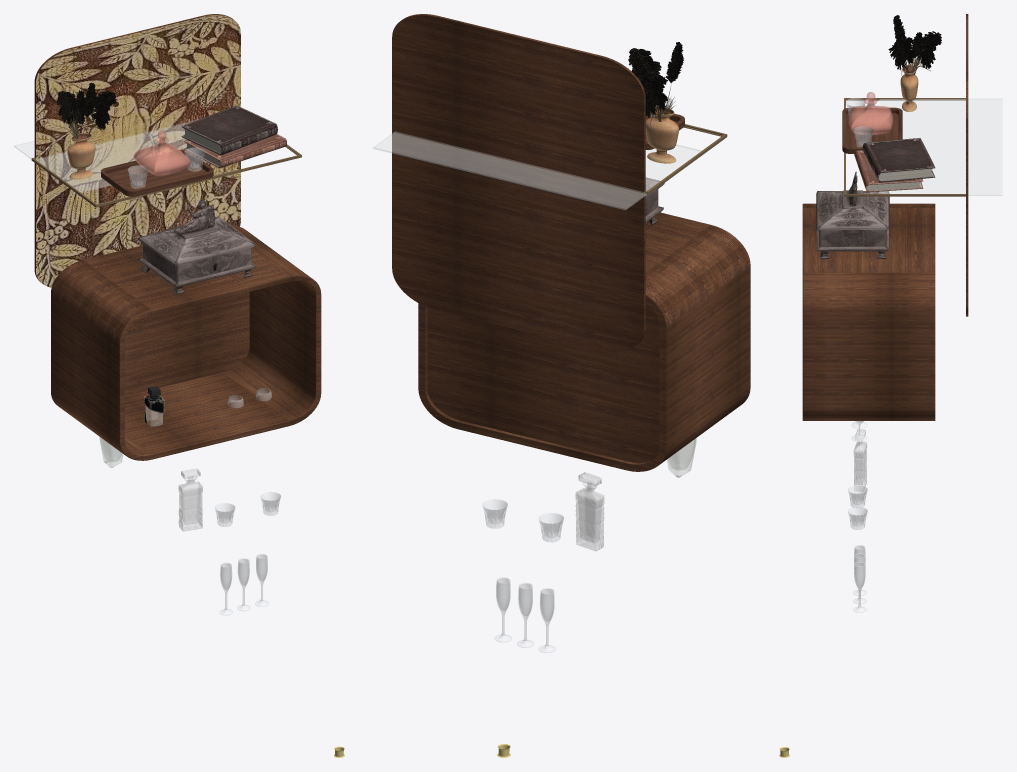
Rendered from shkaf-interior.glb.
The picture shows the model from 3 angles, left to right: view 1: azimuth 30°, elevation 25°; view 2: azimuth 150°, elevation 25°; view 3: azimuth 270°, elevation 25°; orthographic projection. The views are drawn at different scales.
Visible parts, largest first — view 1: modul_drawer, back_wall, modul_drawer_back, Jewelry Case.001, shelf_glass, tray_walnut, book_01, dried_flowers, bottle_short, book_02, Cup, shelf_bronze_frame (+2 smaller); view 2: back_wall, modul_drawer_back, modul_drawer, shelf_glass, dried_flowers, Cup, vase_brass, tapa-gleygoyne, wine_glass_03, wine_glass_02, wine_glass_01; view 3: modul_drawer, shelf_glass, Jewelry Case.001, book_01, tray_walnut, dried_flowers, bottle_short, book_02, back_wall, shelf_bronze_frame, Cup, vase_brass.
Boxes of the visible parts, x1,y1,x2,y2 form: modul_drawer: [51, 225, 321, 460]; back_wall: [34, 14, 240, 287]; modul_drawer_back: [125, 292, 249, 395]; Jewelry Case.001: [137, 199, 256, 294]; shelf_glass: [14, 120, 206, 192]; tray_walnut: [101, 149, 213, 196]; book_01: [181, 105, 277, 155]; dried_flowers: [57, 83, 116, 168]; bottle_short: [133, 137, 190, 175]; book_02: [183, 134, 286, 168]; Cup: [178, 468, 202, 531]; shelf_bronze_frame: [31, 144, 301, 207]; back_wall: [392, 14, 645, 351]; modul_drawer_back: [427, 303, 659, 462]; modul_drawer: [418, 212, 750, 471]; shelf_glass: [373, 131, 701, 209]; dried_flowers: [628, 42, 683, 125]; Cup: [575, 472, 604, 550]; vase_brass: [645, 106, 678, 163]; tapa-gleygoyne: [667, 438, 696, 477]; wine_glass_03: [539, 588, 555, 652]; wine_glass_02: [517, 583, 533, 647]; wine_glass_01: [495, 577, 511, 641]; modul_drawer: [802, 203, 935, 420]; shelf_glass: [879, 99, 1002, 195]; Jewelry Case.001: [816, 171, 889, 259]; book_01: [862, 138, 935, 182]; tray_walnut: [842, 107, 902, 153]; dried_flowers: [888, 15, 941, 75]; bottle_short: [848, 98, 893, 134]; book_02: [854, 150, 923, 191]; back_wall: [966, 14, 968, 316]; shelf_bronze_frame: [844, 98, 965, 196]; Cup: [854, 429, 866, 491]; vase_brass: [900, 64, 918, 111].
Bounding box in the file's own units: 1.15 × 3.43 × 1.06.
30 materials, 19 textured.
